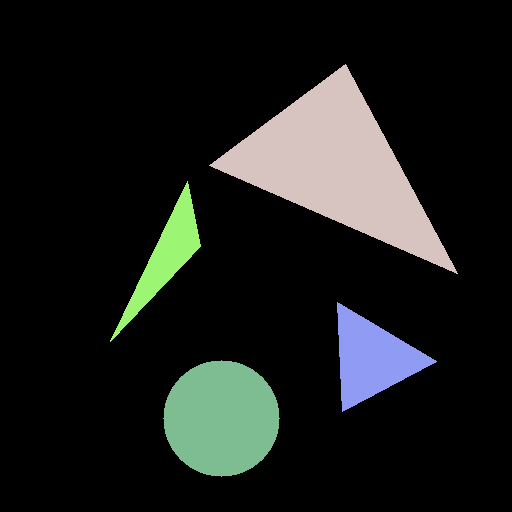circle: (163, 360, 279, 476)
triangle: (209, 64, 457, 273), (110, 181, 200, 341), (337, 302, 436, 411)
